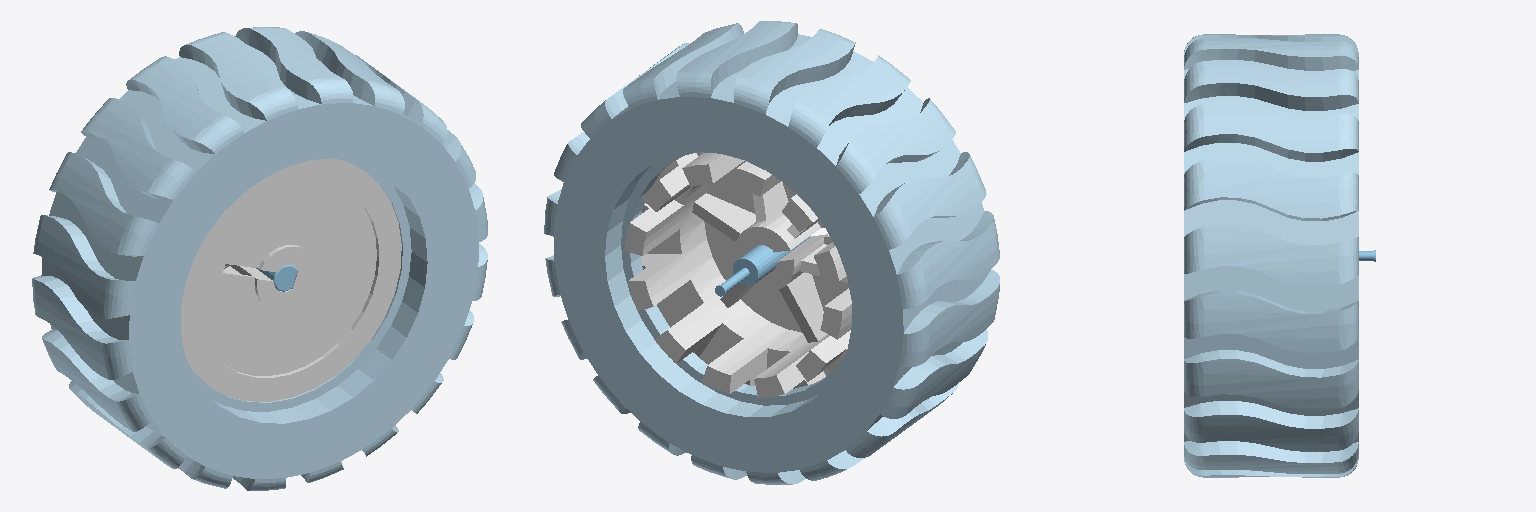
The model's file is roda_kiri_belakang.obj.
3 views of the same model, side by side, from view 1: azimuth 30°, elevation 25°; view 2: azimuth 150°, elevation 25°; view 3: azimuth 270°, elevation 25° (orthographic).
Parts seen in each view (by area): view 1: roda_kiri_belakang; view 2: roda_kiri_belakang; view 3: roda_kiri_belakang.
Part boxes in pixels (x1,y1,x2,y2): roda_kiri_belakang: (32, 27, 487, 490); roda_kiri_belakang: (544, 21, 999, 484); roda_kiri_belakang: (1184, 34, 1375, 477).
Bounding box in the file's own units: 0.0454 × 0.0454 × 0.0197.